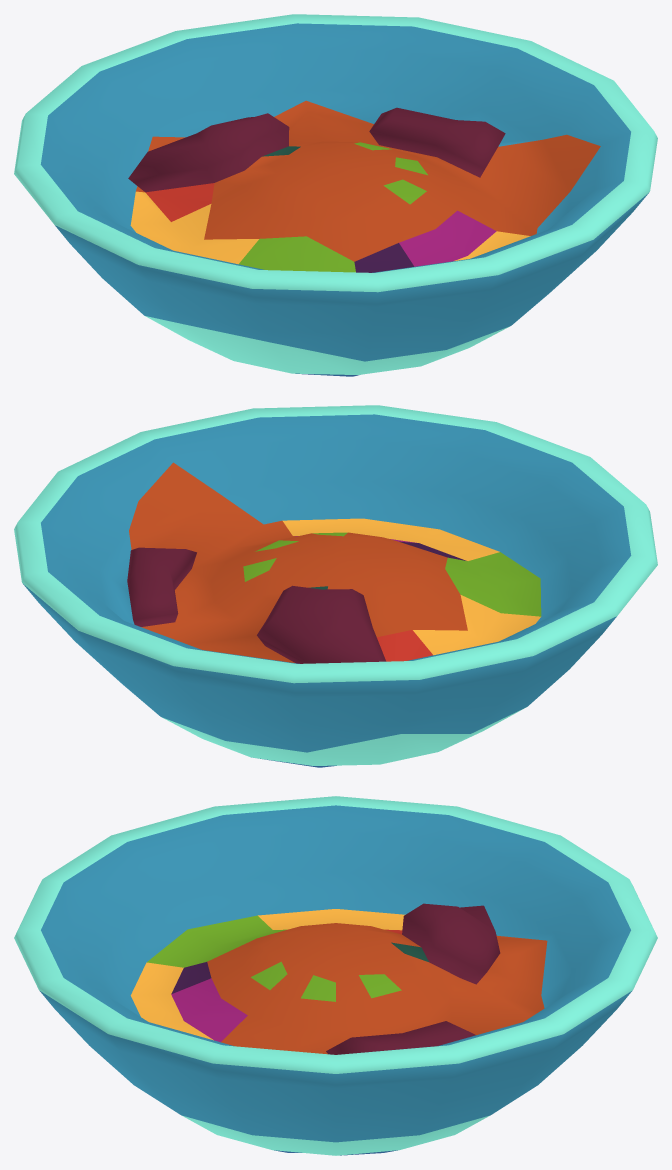
The model's file is curry.glb.
The picture shows the model from 3 angles, top to bottom: view 1: azimuth 30°, elevation 25°; view 2: azimuth 150°, elevation 25°; view 3: azimuth 270°, elevation 25°; orthographic projection.
Visible parts, largest first — view 1: Cylinder.002; view 2: Cylinder.002; view 3: Cylinder.002.
Part boxes in pixels (x1,y1,x2,y2): Cylinder.002: (14,14,657,376); Cylinder.002: (14,405,657,767); Cylinder.002: (14,796,657,1155).
Size of the model in its own units: 4.9 by 1.53 by 4.9.
1 material, 1 textured.
